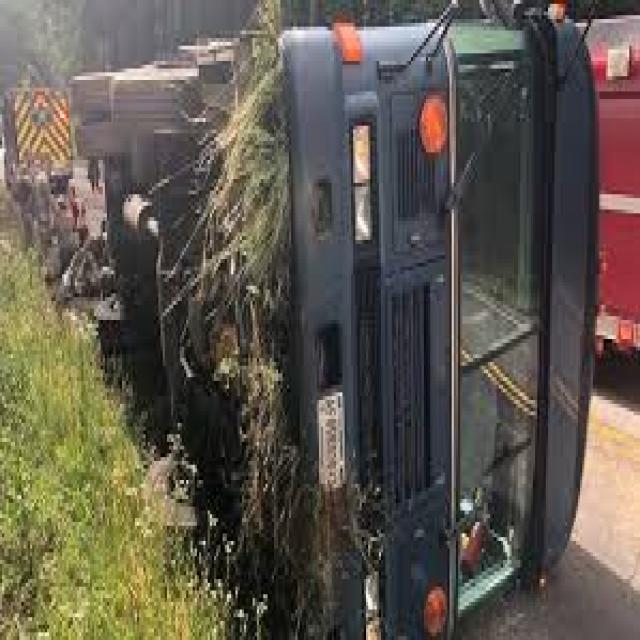turned over vechile: (70, 1, 612, 640)
